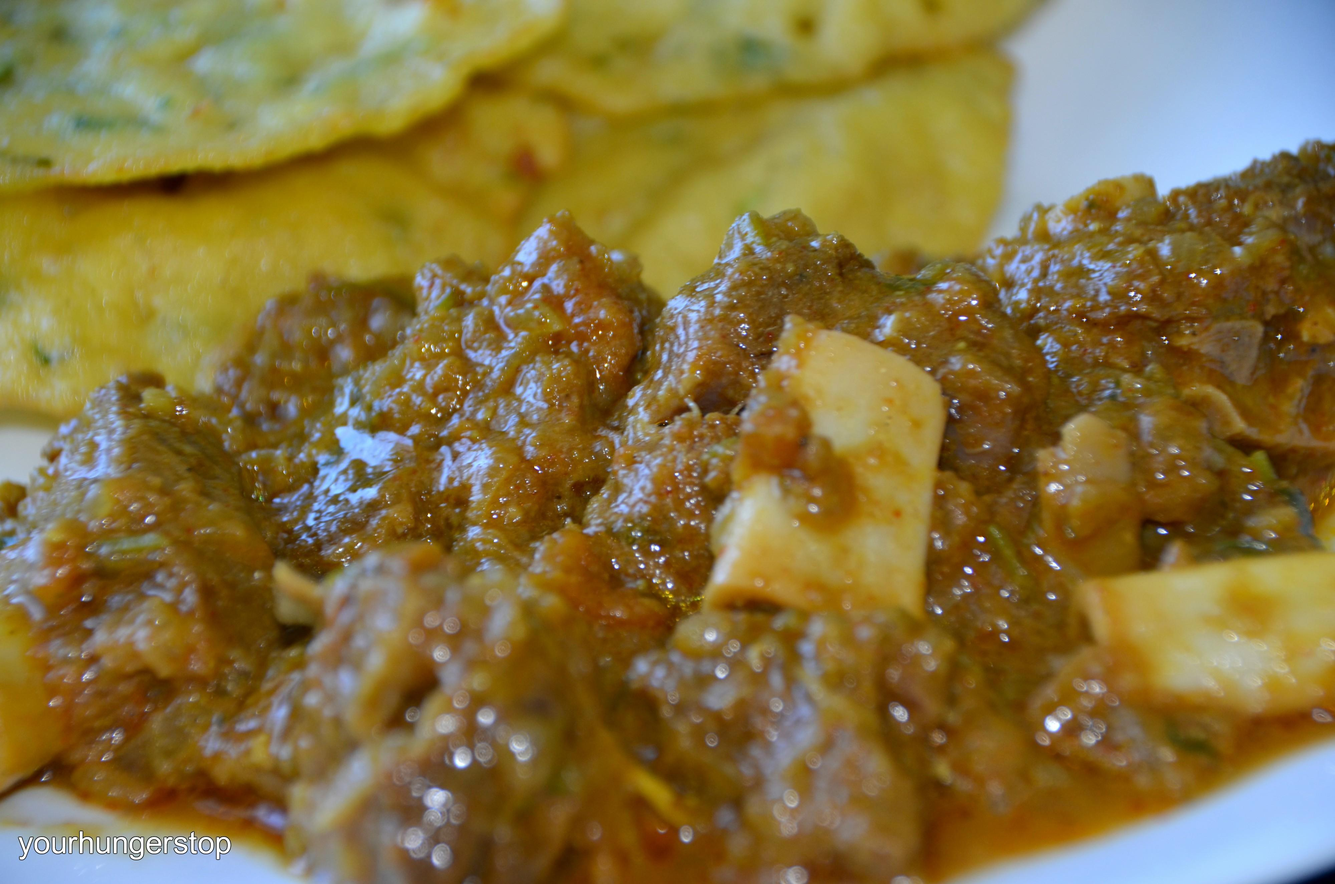MuttonCurry: (0, 136, 1335, 884)
